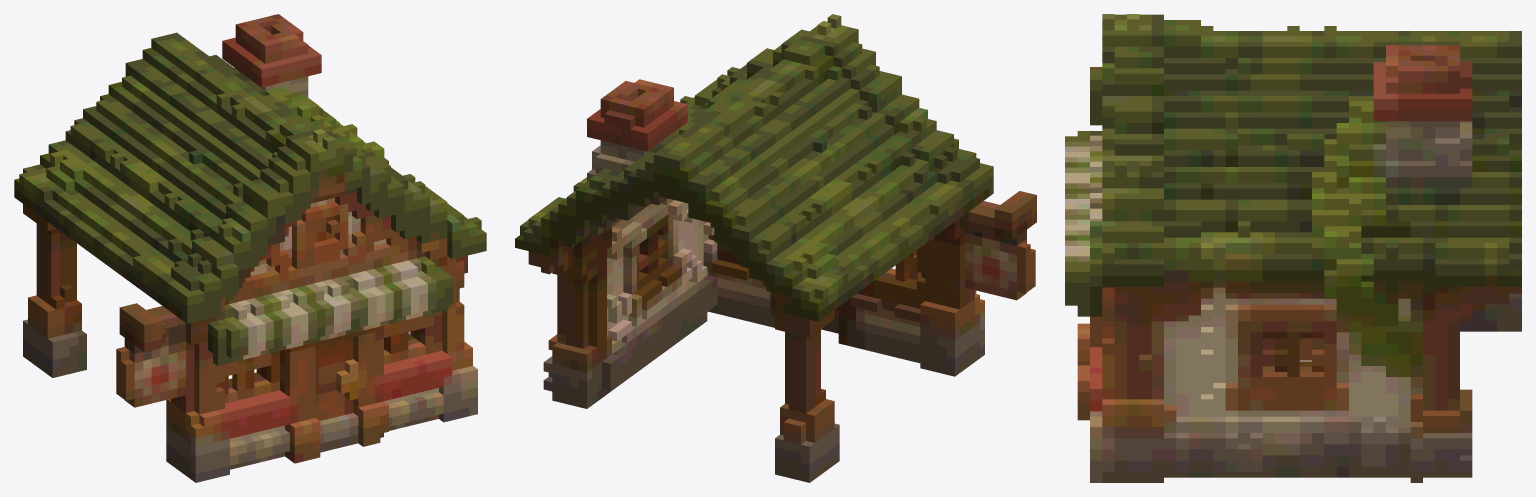
File: asset.glb
The picture shows the model from 3 angles, left to right: view 1: azimuth 30°, elevation 25°; view 2: azimuth 150°, elevation 25°; view 3: azimuth 270°, elevation 25°; orthographic projection. The views are drawn at different scales.
Parts seen in each view (by area): view 1: Voxel asset; view 2: Voxel asset; view 3: Voxel asset.
Boxes of the visible parts, box(x1,y1,x2,y2) form: Voxel asset: box(14, 14, 486, 482); Voxel asset: box(515, 14, 1036, 482); Voxel asset: box(1065, 14, 1521, 482).
Bounding box in the file's own units: 3.74 × 3.1 × 3.37.
